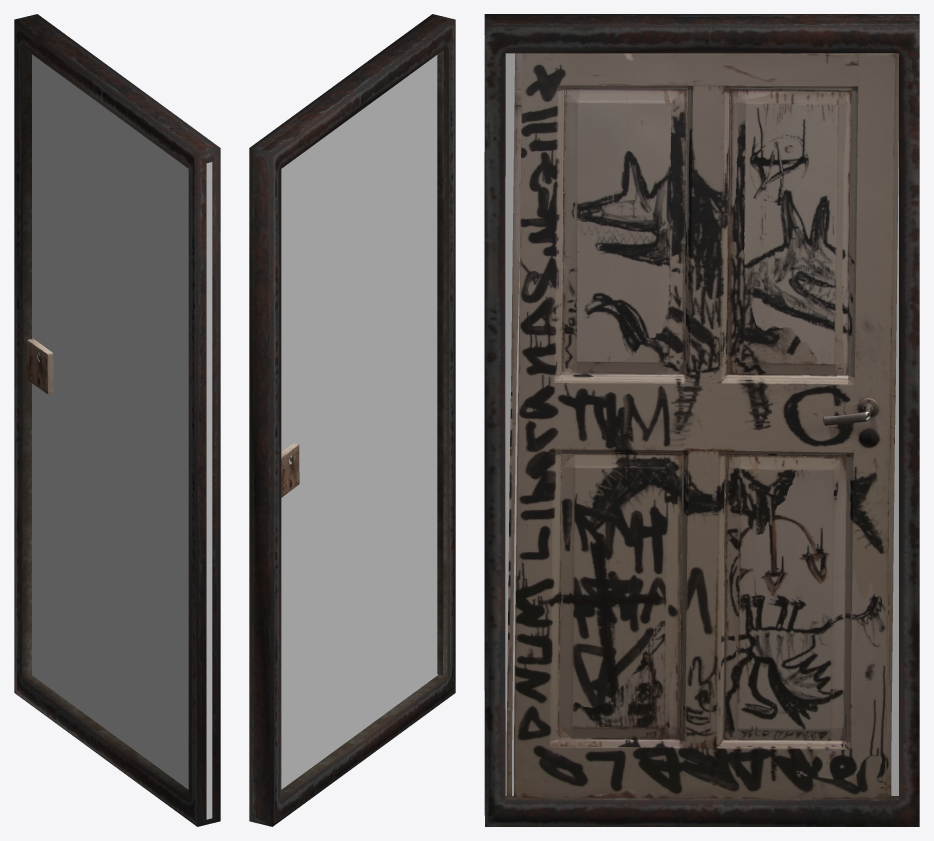
File: DoorRetopo4.glb
3 renders of one model, left to right at view 1: azimuth 30°, elevation 25°; view 2: azimuth 150°, elevation 25°; view 3: azimuth 270°, elevation 25°, orthographic. The views are drawn at different scales.
Parts seen in each view (by area): view 1: Invisible, Object_3.001, Plane.002; view 2: Invisible, Object_3.001, Plane.002; view 3: Plane.002, Object_3.001, Invisible.
Part boxes in pixels (x1,y1,x2,y2): Invisible: [32, 54, 212, 819]; Object_3.001: [14, 14, 220, 826]; Plane.002: [27, 338, 53, 394]; Invisible: [281, 55, 437, 789]; Object_3.001: [249, 14, 455, 826]; Plane.002: [281, 443, 299, 497]; Plane.002: [506, 53, 898, 799]; Object_3.001: [484, 14, 919, 826]; Invisible: [484, 33, 898, 815].
Bounding box in the file's own units: 0.2283 × 3.94 × 1.95.
Materials: 3 (2 with a texture image).
